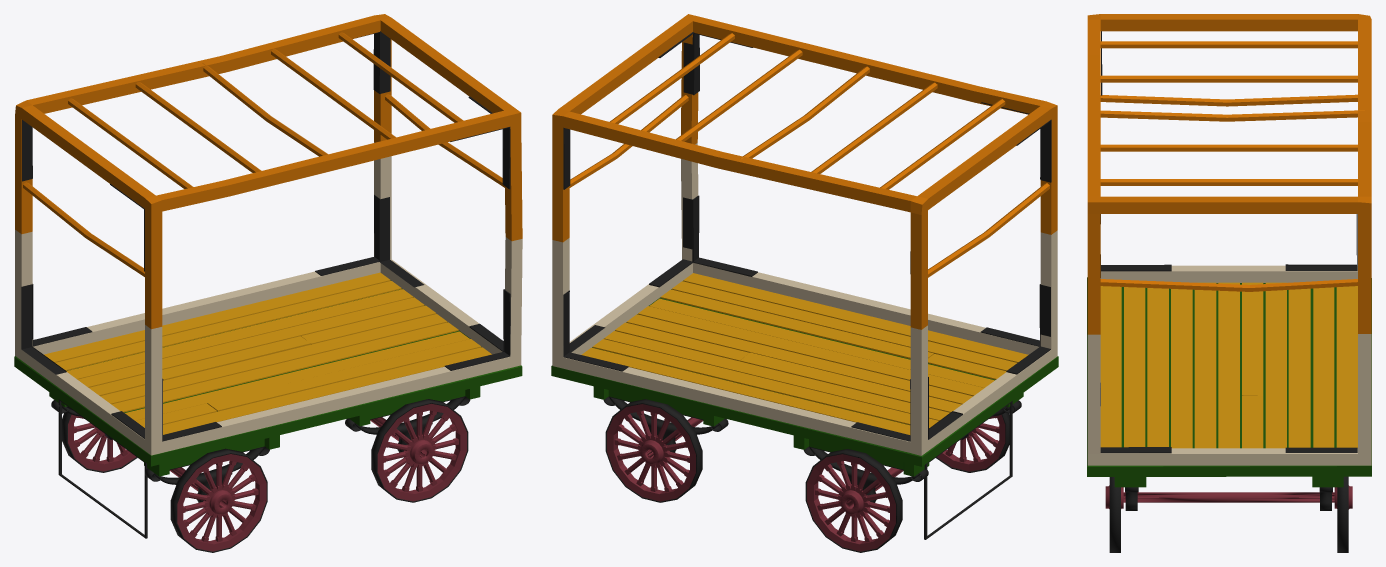
3 renders of one model, left to right at view 1: azimuth 30°, elevation 25°; view 2: azimuth 150°, elevation 25°; view 3: azimuth 270°, elevation 25°, orthographic. The views are drawn at different scales.
Parts seen in each view (by area): view 1: trolly; view 2: trolly; view 3: trolly.
Boxes of the visible parts, x1=… form: trolly: x1=14, y1=14, x2=522, y2=552; trolly: x1=551, y1=14, x2=1058, y2=552; trolly: x1=1087, y1=14, x2=1371, y2=552.
Size of the model in its own units: 107 by 103 by 68.25.
